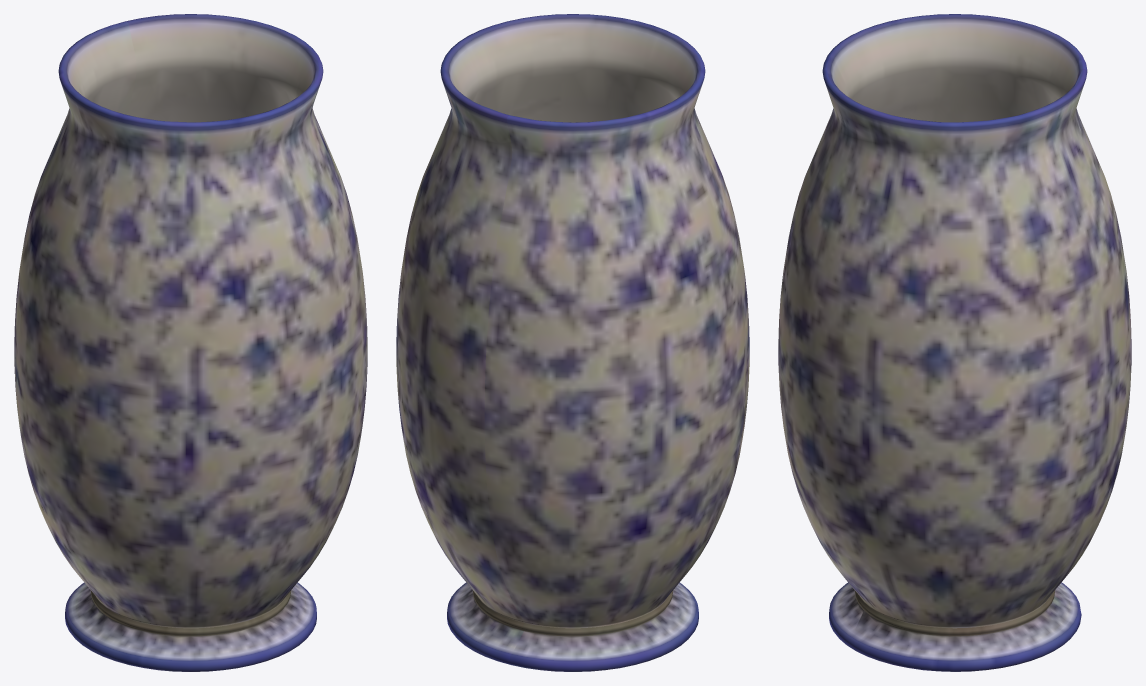
File: blue-vase.glb
3 renders of one model, left to right at view 1: azimuth 30°, elevation 25°; view 2: azimuth 150°, elevation 25°; view 3: azimuth 270°, elevation 25°, orthographic.
Visible parts, largest first — view 1: antique_ceramic_vase_01; view 2: antique_ceramic_vase_01; view 3: antique_ceramic_vase_01.
Boxes of the visible parts, x1=… form: antique_ceramic_vase_01: x1=14, y1=14, x2=367, y2=671; antique_ceramic_vase_01: x1=396, y1=14, x2=749, y2=671; antique_ceramic_vase_01: x1=778, y1=14, x2=1131, y2=671.
Size of the model in its own units: 0.255 by 0.4396 by 0.255.
1 material, 1 textured.
